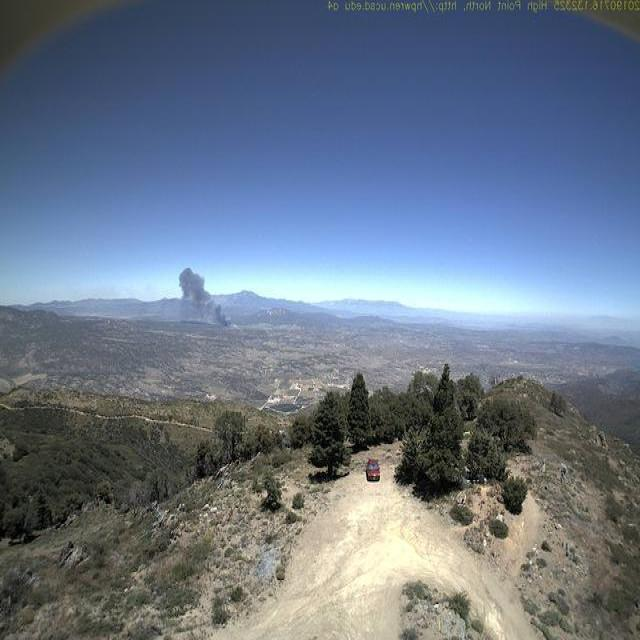Smoke: (177, 263, 241, 328)
